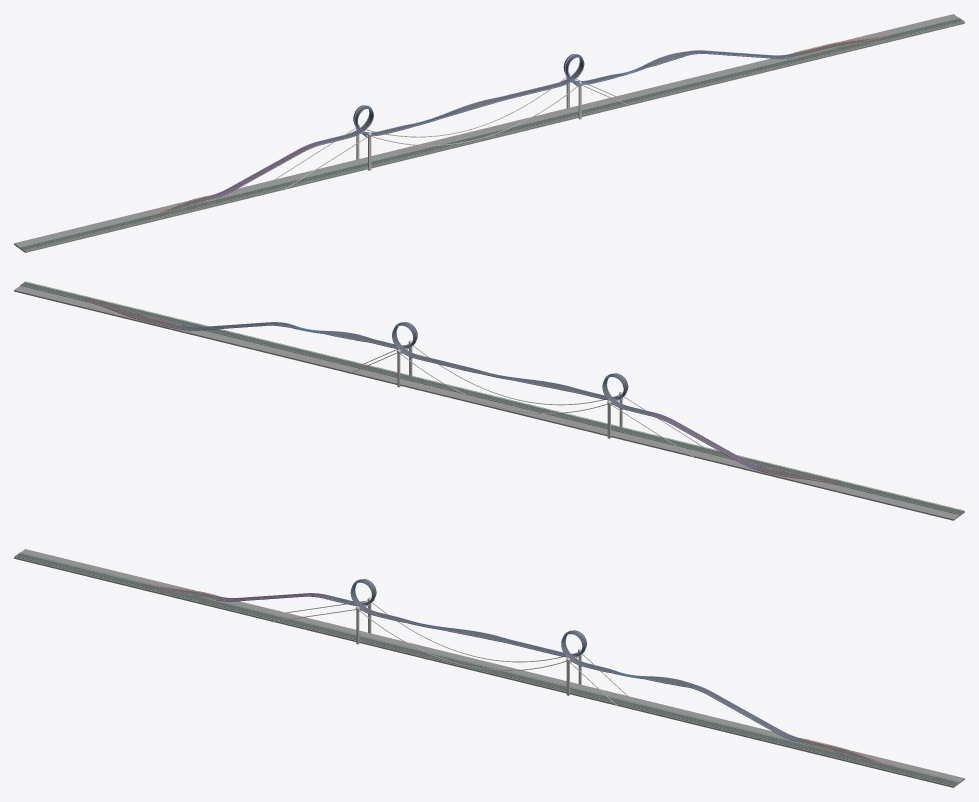
File: lp01_skydeck_v4_draco.glb
The picture shows the model from 3 angles, top to bottom: view 1: azimuth 30°, elevation 25°; view 2: azimuth 150°, elevation 25°; view 3: azimuth 330°, elevation 25°; orthographic projection.
Parts seen in each view (by area): view 1: LP01_bridge_deck, LP01_T_deck, LP01_L_deck, LP01_L_cable_railL, LP01_L_cable_railR, LP01_T_cable_railL, LP01_T_cable_railR, LP01_T_cable_edgeL, LP01_T_cable_edgeR, SC01_MB_REF_pylons, SC01_MB_REF_main_cable_R; view 2: LP01_bridge_deck, LP01_T_deck, LP01_L_deck, LP01_L_cable_railL, LP01_L_cable_railR, LP01_T_cable_railR, LP01_T_cable_railL, LP01_T_cable_edgeR, LP01_T_cable_edgeL, SC01_MB_REF_pylons, SC01_MB_REF_main_cable_L; view 3: LP01_bridge_deck, LP01_T_deck, LP01_L_deck, LP01_L_cable_railR, LP01_L_cable_railL, LP01_T_cable_railL, LP01_T_cable_railR, LP01_T_cable_edgeL, LP01_T_cable_edgeR, SC01_MB_REF_pylons, SC01_MB_REF_main_cable_R, LP01_T_cable_centre.
Part boxes in pixels (x1=…): LP01_bridge_deck: x1=14, y1=14, x2=964, y2=252; LP01_T_deck: x1=20, y1=18, x2=963, y2=250; LP01_L_deck: x1=140, y1=33, x2=902, y2=221; LP01_L_cable_railL: x1=140, y1=32, x2=896, y2=217; LP01_L_cable_railR: x1=144, y1=36, x2=901, y2=221; LP01_T_cable_railL: x1=20, y1=17, x2=959, y2=246; LP01_T_cable_railR: x1=25, y1=21, x2=963, y2=249; LP01_T_cable_edgeL: x1=20, y1=18, x2=959, y2=247; LP01_T_cable_edgeR: x1=24, y1=21, x2=963, y2=250; SC01_MB_REF_pylons: x1=356, y1=73, x2=582, y2=170; SC01_MB_REF_main_cable_R: x1=283, y1=85, x2=629, y2=190; LP01_bridge_deck: x1=14, y1=282, x2=964, y2=520; LP01_T_deck: x1=20, y1=282, x2=963, y2=514; LP01_L_deck: x1=81, y1=297, x2=843, y2=485; LP01_L_cable_railL: x1=82, y1=300, x2=839, y2=484; LP01_L_cable_railR: x1=88, y1=297, x2=843, y2=481; LP01_T_cable_railR: x1=25, y1=281, x2=963, y2=510; LP01_T_cable_railL: x1=20, y1=284, x2=959, y2=513; LP01_T_cable_edgeR: x1=24, y1=282, x2=963, y2=511; LP01_T_cable_edgeL: x1=21, y1=285, x2=959, y2=514; SC01_MB_REF_pylons: x1=396, y1=340, x2=622, y2=438; SC01_MB_REF_main_cable_L: x1=349, y1=352, x2=695, y2=457; LP01_bridge_deck: x1=14, y1=549, x2=964, y2=787; LP01_T_deck: x1=15, y1=553, x2=958, y2=785; LP01_L_deck: x1=135, y1=579, x2=896, y2=770; LP01_L_cable_railR: x1=137, y1=582, x2=891, y2=770; LP01_L_cable_railL: x1=139, y1=581, x2=896, y2=766; LP01_T_cable_railL: x1=19, y1=552, x2=958, y2=781; LP01_T_cable_railR: x1=15, y1=556, x2=953, y2=784; LP01_T_cable_edgeL: x1=19, y1=553, x2=958, y2=782; LP01_T_cable_edgeR: x1=15, y1=556, x2=954, y2=785; SC01_MB_REF_pylons: x1=355, y1=597, x2=581, y2=695; SC01_MB_REF_main_cable_R: x1=271, y1=609, x2=617, y2=706; LP01_T_cable_centre: x1=17, y1=554, x2=955, y2=783.
Size of the model in its own units: 1420 by 86.76 by 36.7.
